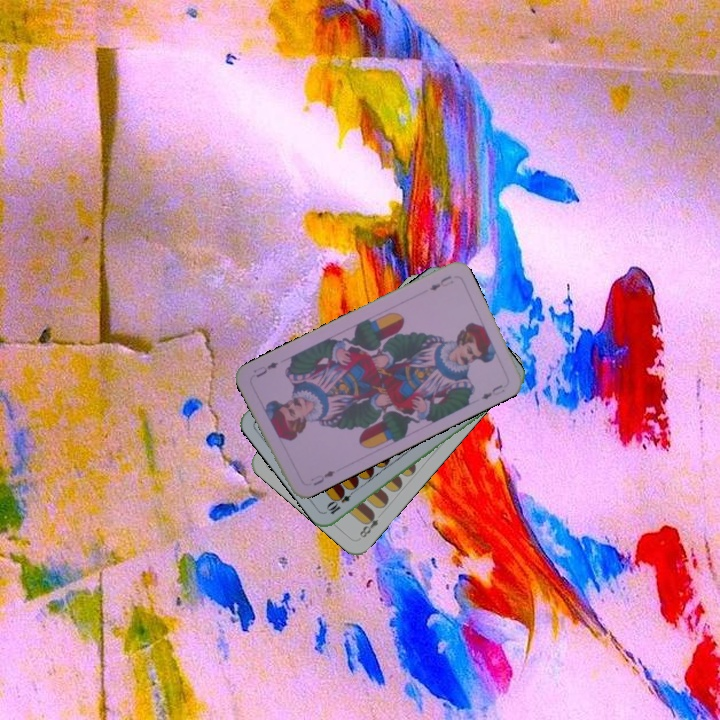E10: (323, 484, 359, 517)
E8: (355, 508, 381, 540)
EU: (307, 466, 337, 488), (426, 271, 456, 293)
